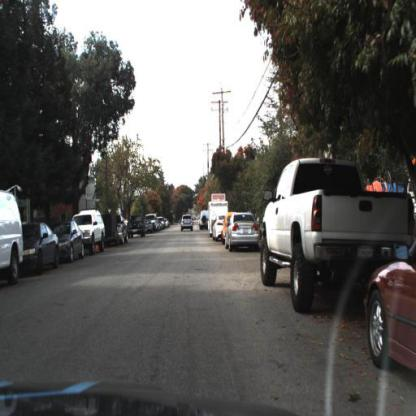car: (254, 146, 414, 310), (362, 236, 416, 386), (16, 218, 60, 275), (0, 189, 23, 286), (50, 217, 86, 264), (72, 206, 104, 255), (223, 209, 260, 251), (176, 214, 195, 234)
